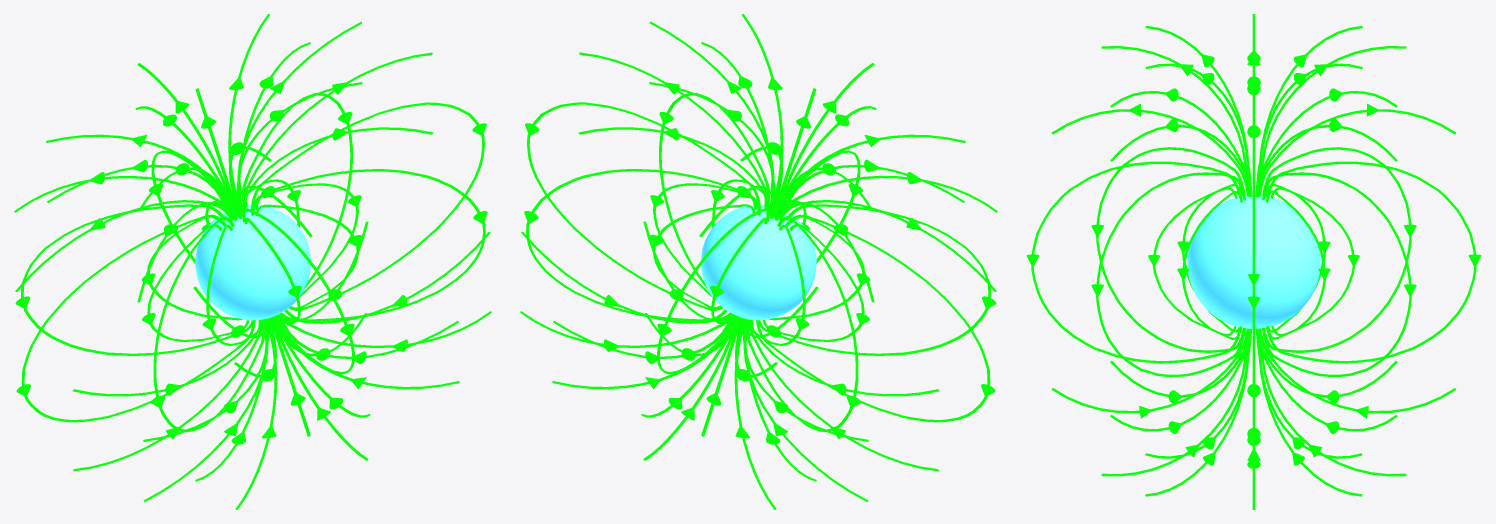
Rendered from estrella-campo.glb.
3 views of the same model, side by side, from view 1: azimuth 30°, elevation 25°; view 2: azimuth 150°, elevation 25°; view 3: azimuth 270°, elevation 25° (orthographic). The views are drawn at different scales.
Parts seen in each view (by area): view 1: Texto-letra-campo-magnetico; view 2: Texto-letra-campo-magnetico; view 3: Texto-letra-campo-magnetico.
Boxes of the visible parts, <box> form: Texto-letra-campo-magnetico: <box>14,14,491,509</box>; Texto-letra-campo-magnetico: <box>520,14,997,509</box>; Texto-letra-campo-magnetico: <box>1026,14,1481,509</box>.
Size of the model in its own units: 8.56 by 7.35 by 6.14.
